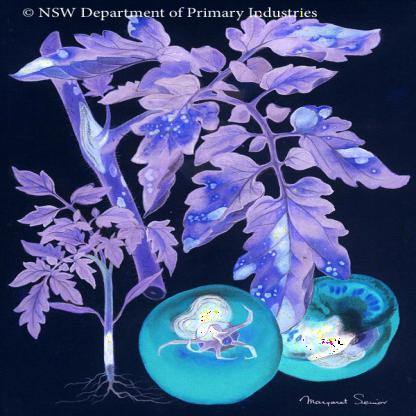Tomato Early blight leaf: (252, 181, 362, 333), (278, 98, 415, 193), (10, 12, 167, 88), (132, 85, 201, 211), (181, 154, 261, 249), (235, 13, 383, 59)
